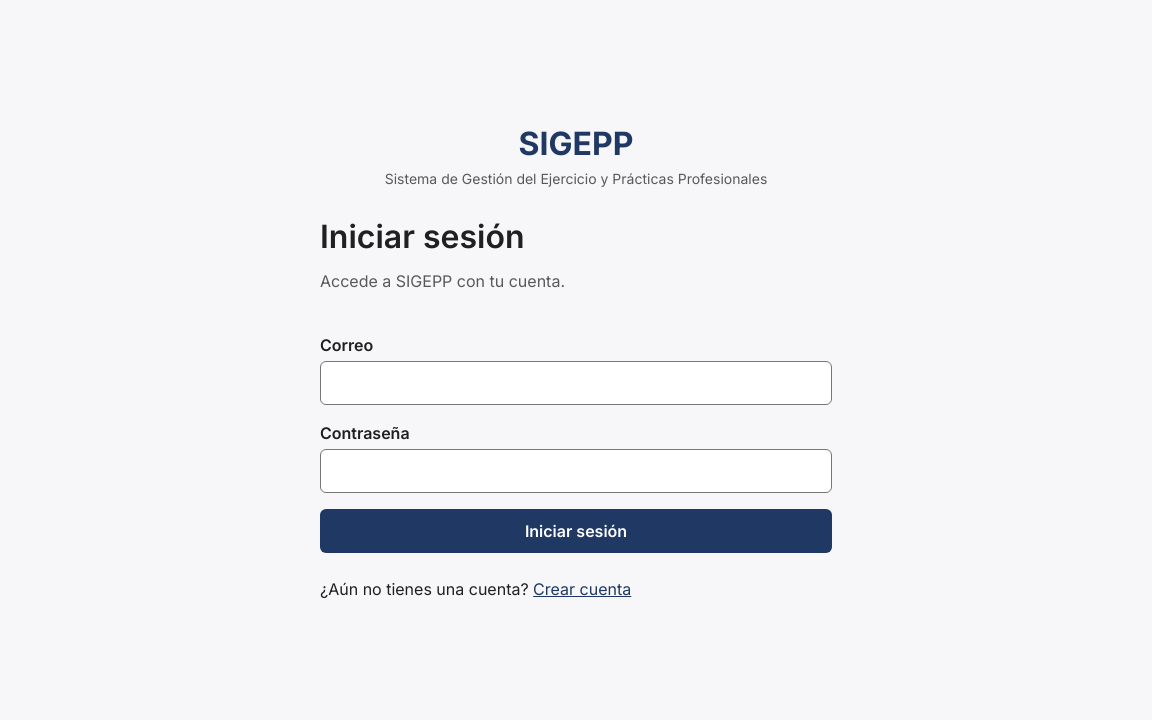
Test case: router real tras login valida retorno https://evil.example en /inicio (query)
This screenshot has width=1152, height=720.
Type "gerente@empresa.com" into the field labelled "Correo" at (576, 382), box [320,360,832,404]
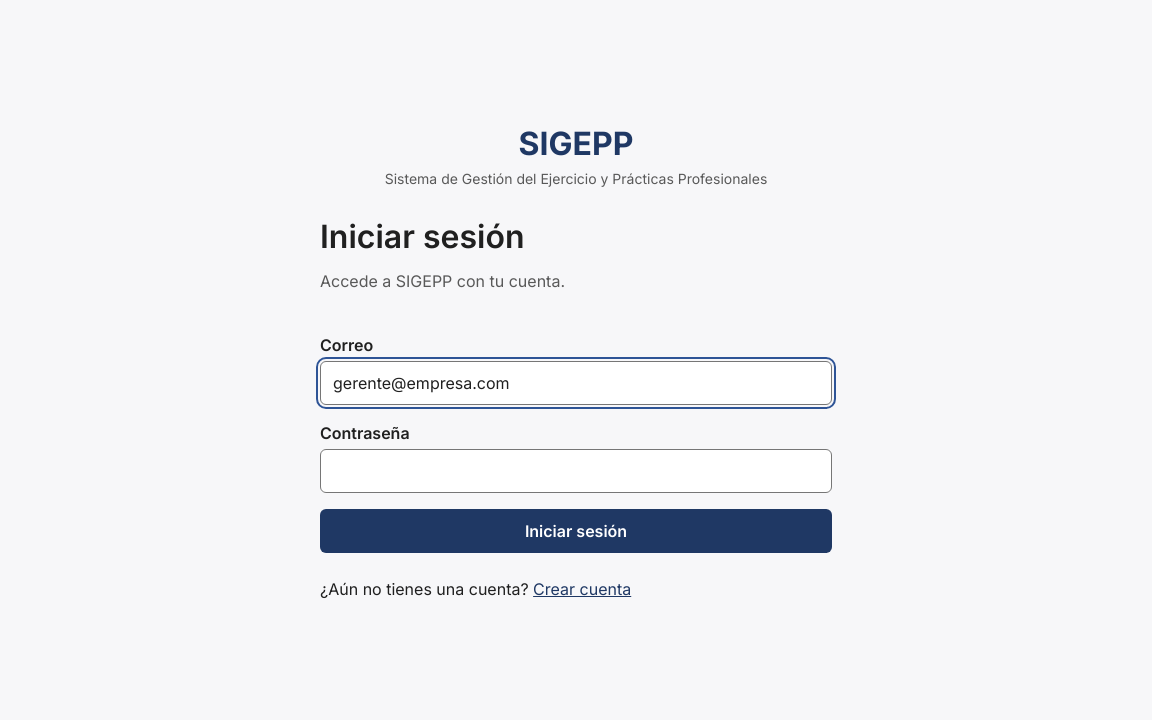
Type "secreto123" into the password field labelled "Contraseña" at (576, 470), box [320,448,832,492]
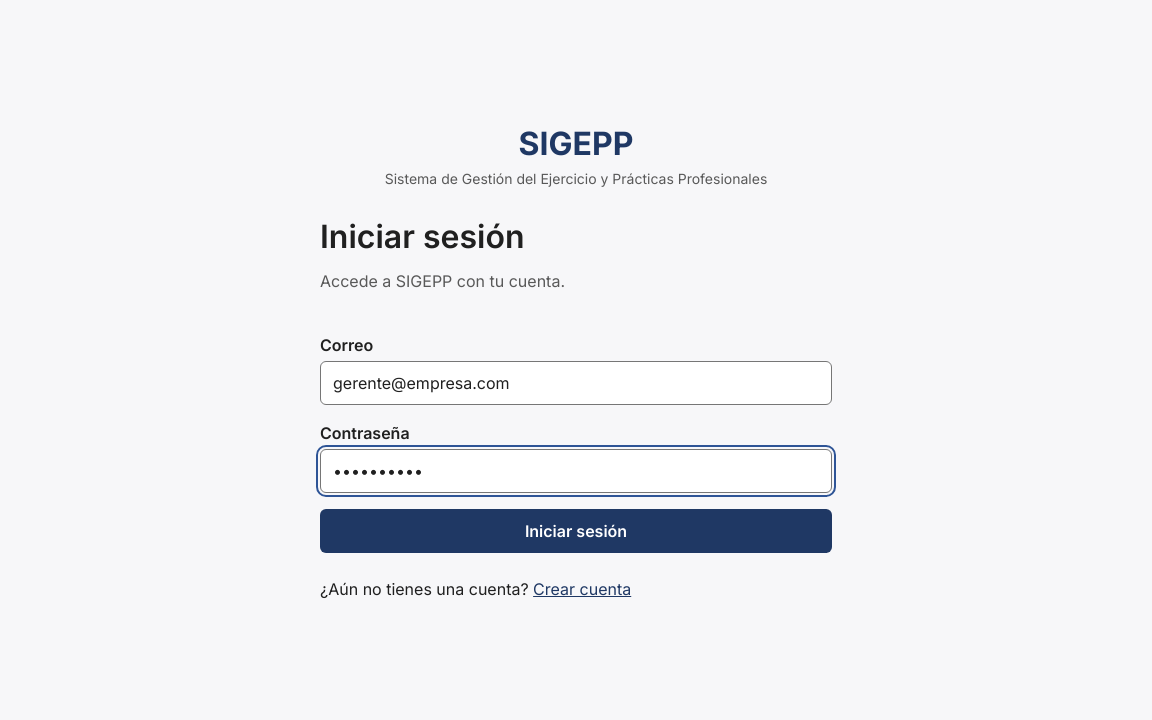
Click the button "Iniciar sesión" at (576, 530), box [320,508,832,552]
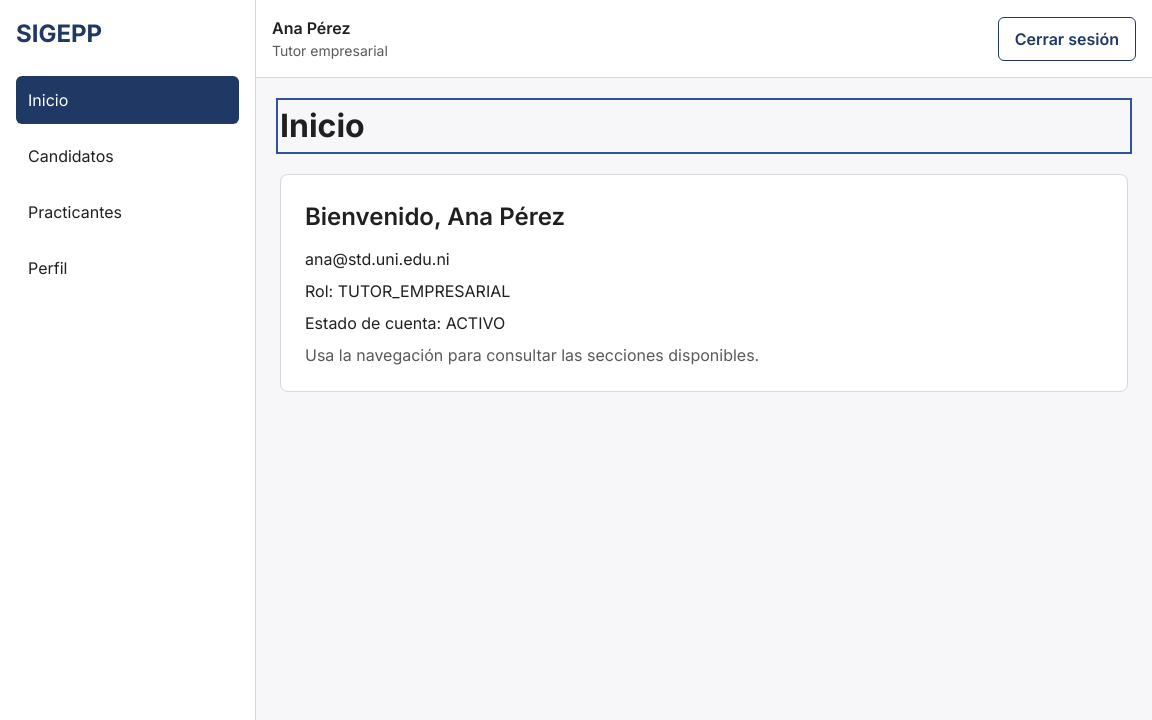
Now the heading "Inicio" is shown, box [280,106,365,145]
